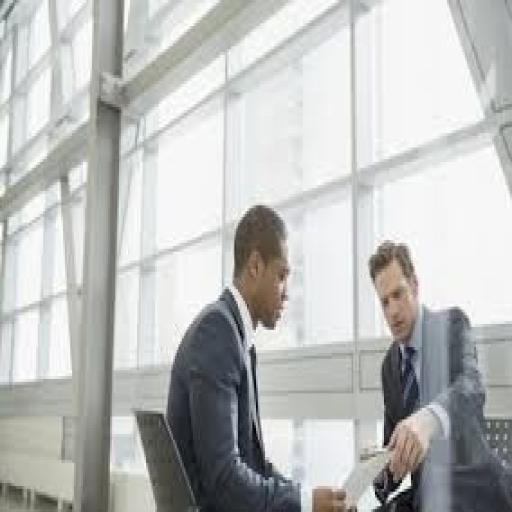sitting: (162, 197, 508, 509), (364, 234, 510, 509)
